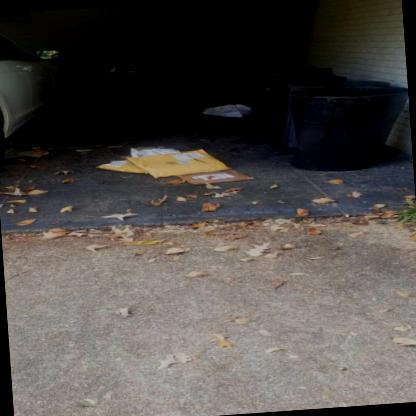envelope: (121, 148, 226, 180), (180, 166, 252, 188)
